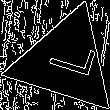L_W: (36, 39, 95, 84)
